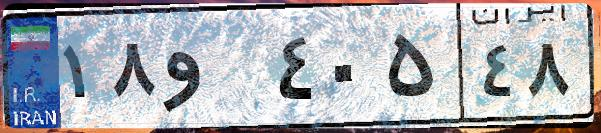0: (330, 28, 385, 110)
1: (57, 26, 110, 100)
4: (270, 28, 330, 110), (475, 38, 525, 113)
5: (385, 28, 445, 110)
8: (525, 38, 570, 115), (110, 28, 158, 98)
و: (158, 20, 270, 120)
